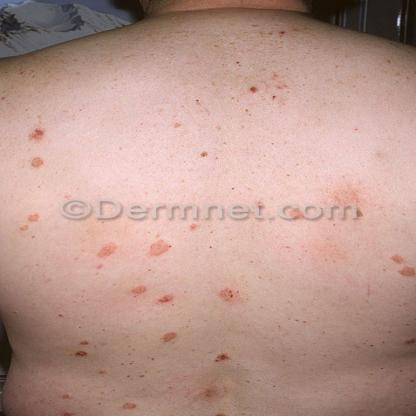Eczema: (82, 235, 262, 327), (0, 109, 65, 179), (378, 244, 416, 294)
